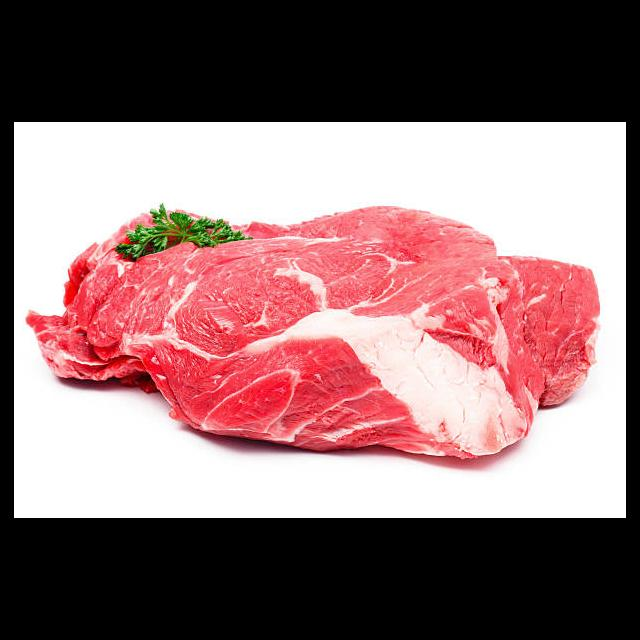beef: (26, 200, 602, 462)
